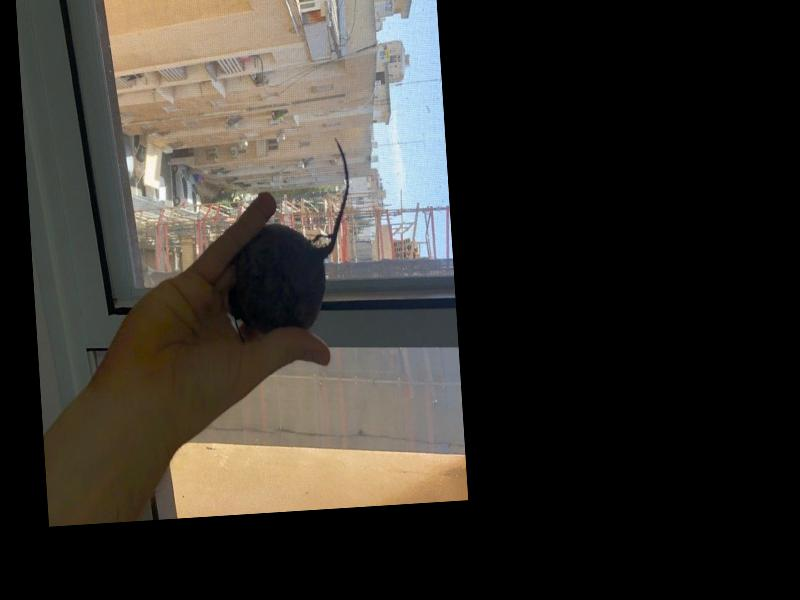Beet: (219, 136, 359, 333)
